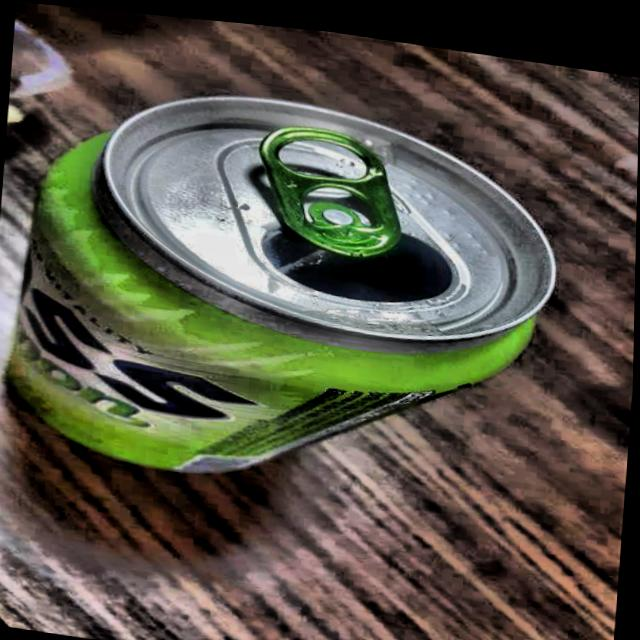Cans: (0, 21, 600, 545)
